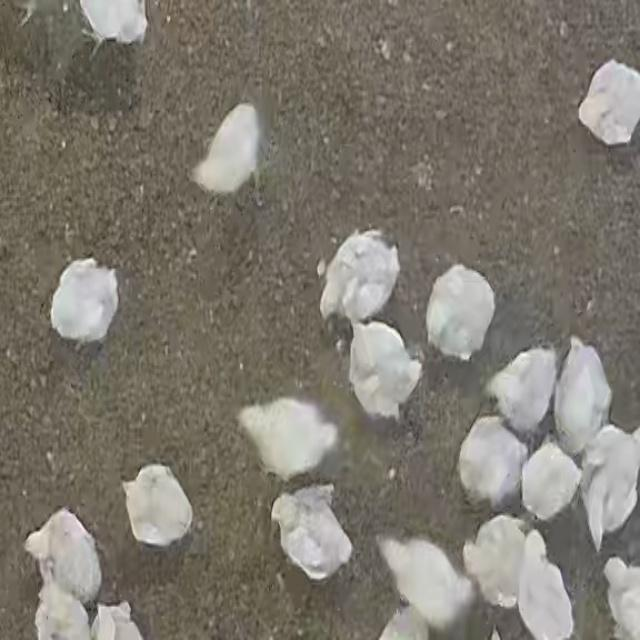chicken: (377, 534, 474, 632), (238, 395, 344, 481), (314, 224, 402, 324), (270, 486, 353, 582), (23, 509, 104, 606), (348, 323, 422, 423), (424, 262, 497, 362), (456, 417, 528, 512), (192, 102, 262, 198), (486, 343, 557, 436), (553, 340, 610, 454), (518, 529, 576, 640), (587, 426, 640, 545), (121, 464, 193, 550), (50, 257, 118, 345), (464, 512, 522, 609), (578, 58, 640, 146), (520, 441, 581, 525), (26, 585, 89, 640), (602, 555, 640, 640), (80, 0, 145, 48)
